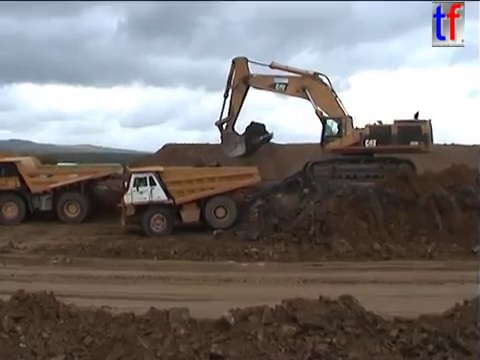excavator: (211, 54, 437, 189)
truck: (116, 162, 262, 238), (1, 151, 124, 225)
